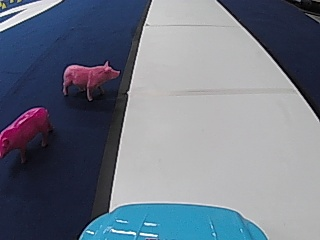pig: (1, 103, 52, 162), (58, 57, 118, 100)
